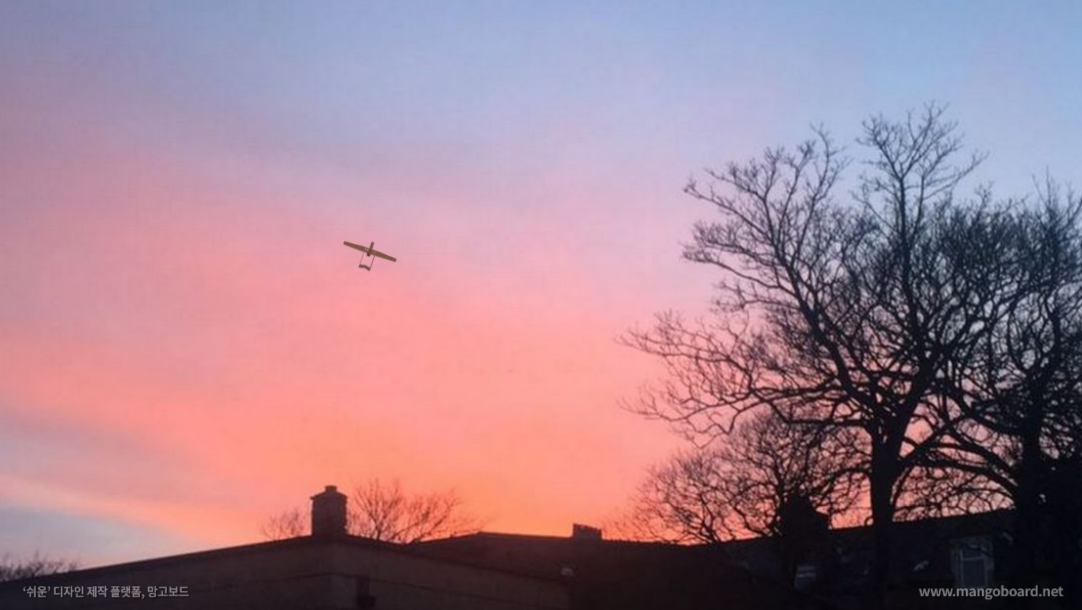military drone: (342, 240, 396, 271)
